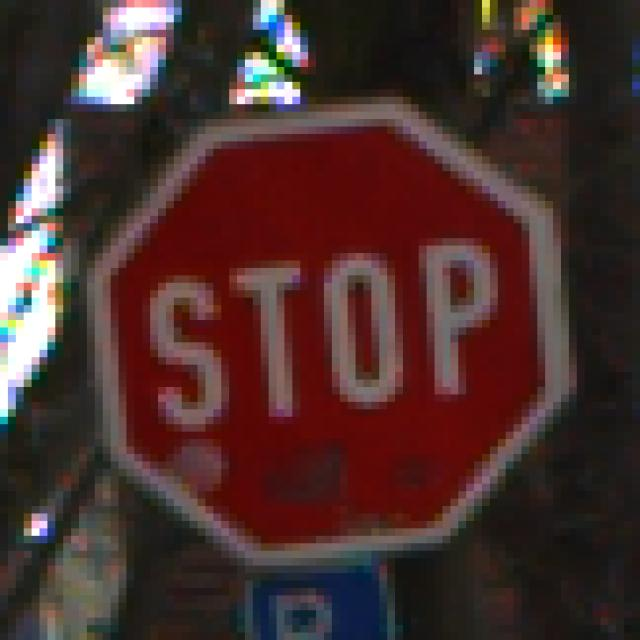STOP: (64, 60, 578, 589)
